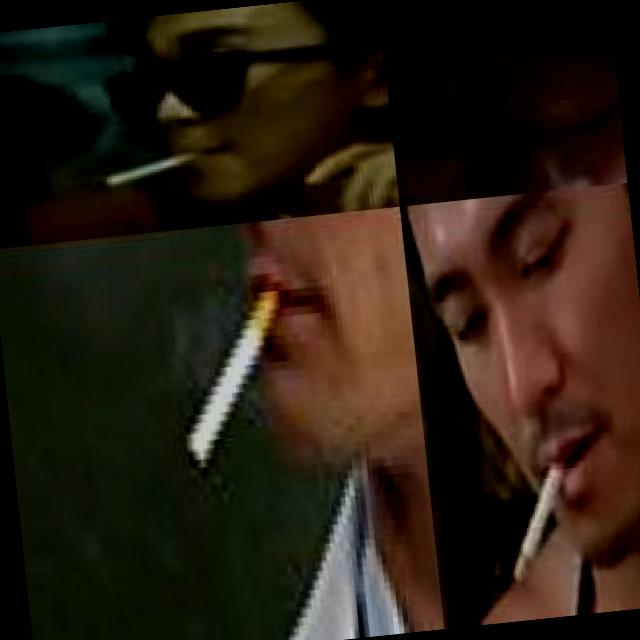smoke: (168, 270, 304, 472), (499, 446, 582, 584), (102, 148, 214, 186)
